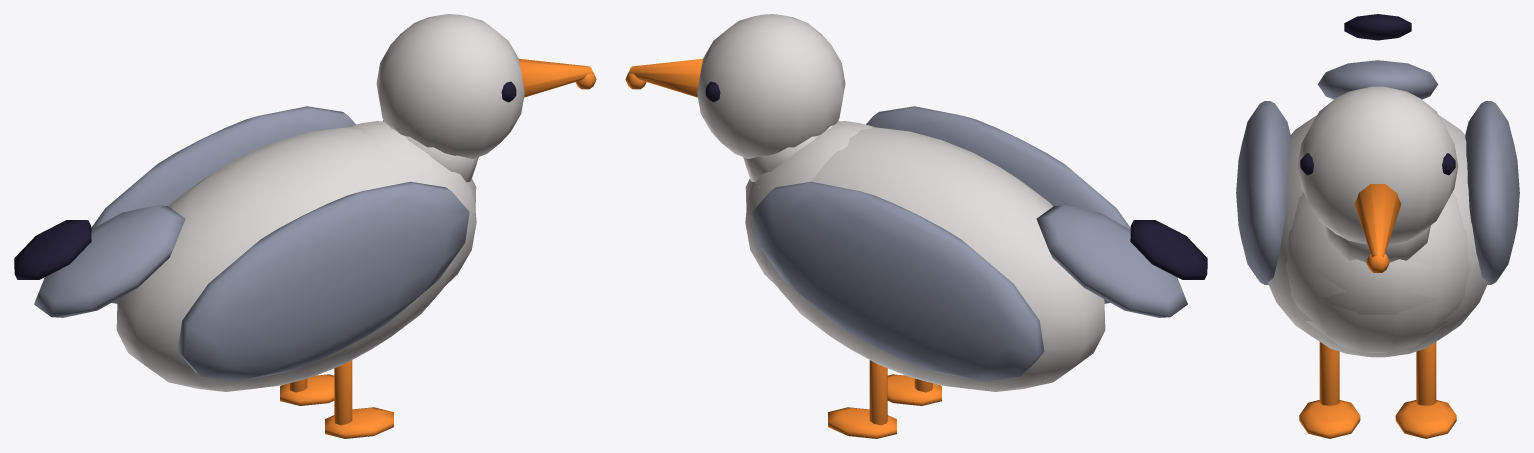
File: seagull.glb
3 renders of one model, left to right at view 1: azimuth 30°, elevation 25°; view 2: azimuth 150°, elevation 25°; view 3: azimuth 270°, elevation 25°, orthographic. The views are drawn at different scales.
Parts seen in each view (by area): view 1: Seagull; view 2: Seagull; view 3: Seagull.
Part boxes in pixels (x1,y1,x2,y2): Seagull: (14,14,596,438); Seagull: (625,14,1207,438); Seagull: (1236,14,1519,438).
Bounding box in the file's own units: 0.9634 × 0.5827 × 0.3812.
